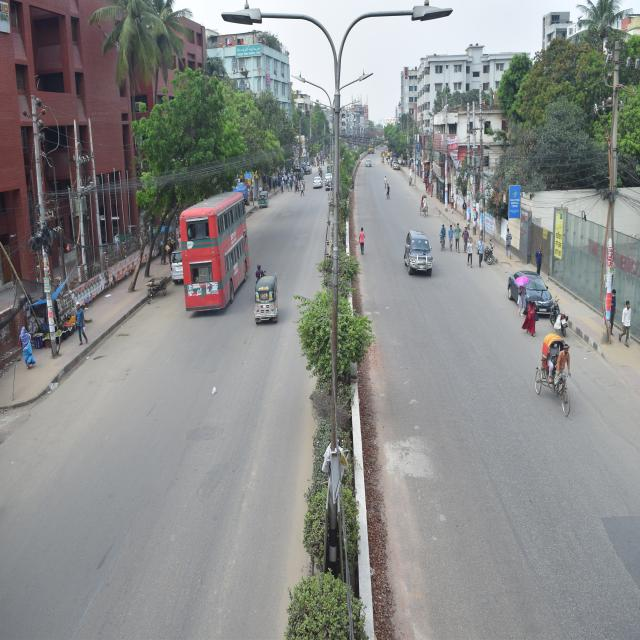bus: (172, 181, 253, 319)
car: (501, 259, 556, 305), (406, 224, 434, 288), (318, 163, 338, 193), (254, 179, 270, 216), (308, 160, 324, 186)
motorbike: (546, 293, 572, 333), (240, 261, 267, 284), (476, 241, 499, 261)
